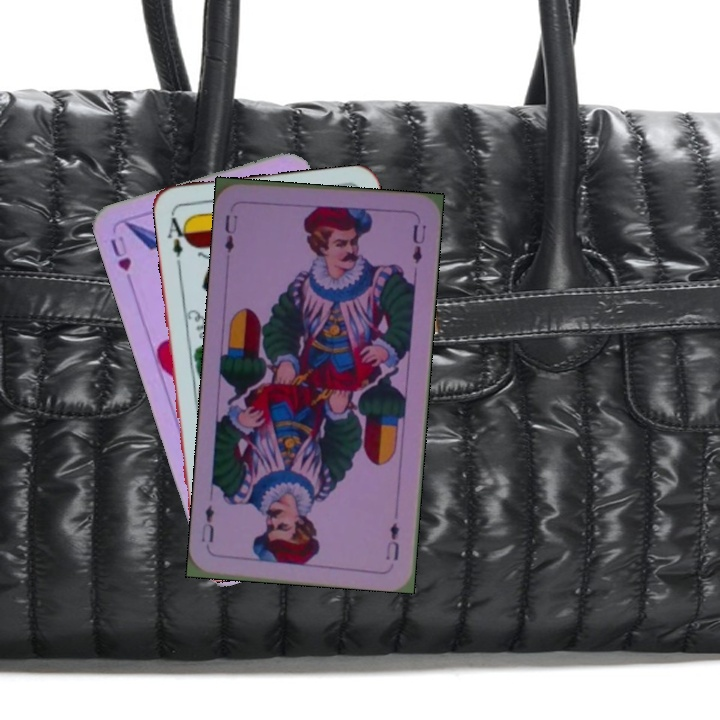EA: (163, 209, 191, 268)
EU: (220, 210, 240, 255), (382, 518, 402, 563)
HU: (106, 231, 134, 274)
